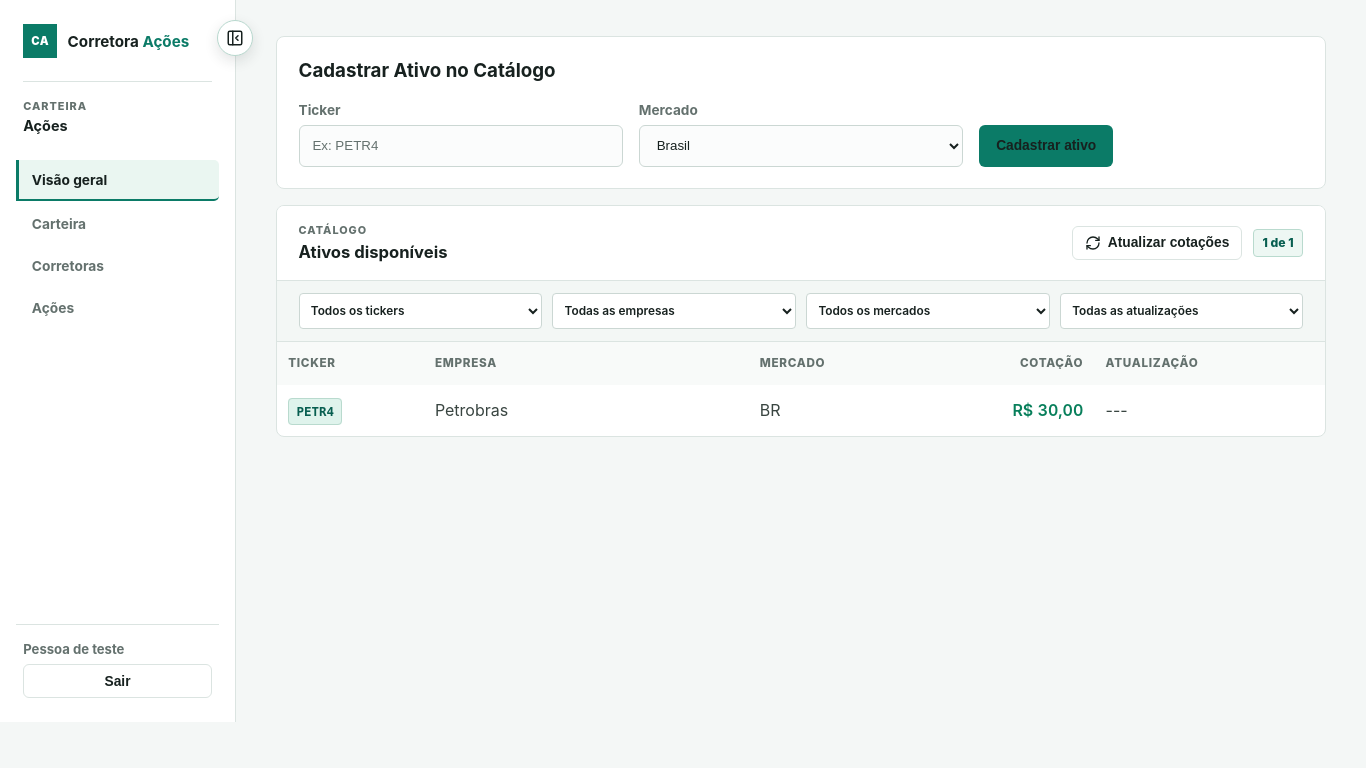
Test: catalogo de acoes › exibe o catalogo e permite filtrar o mercado
Check: the cell "Petrobras" is shown, box x1=424 y1=385 x2=749 y2=435
Select "EUA" in the dropdown named "Filtrar mercado": (928, 310) x1=806 y1=292 x2=1050 y2=328
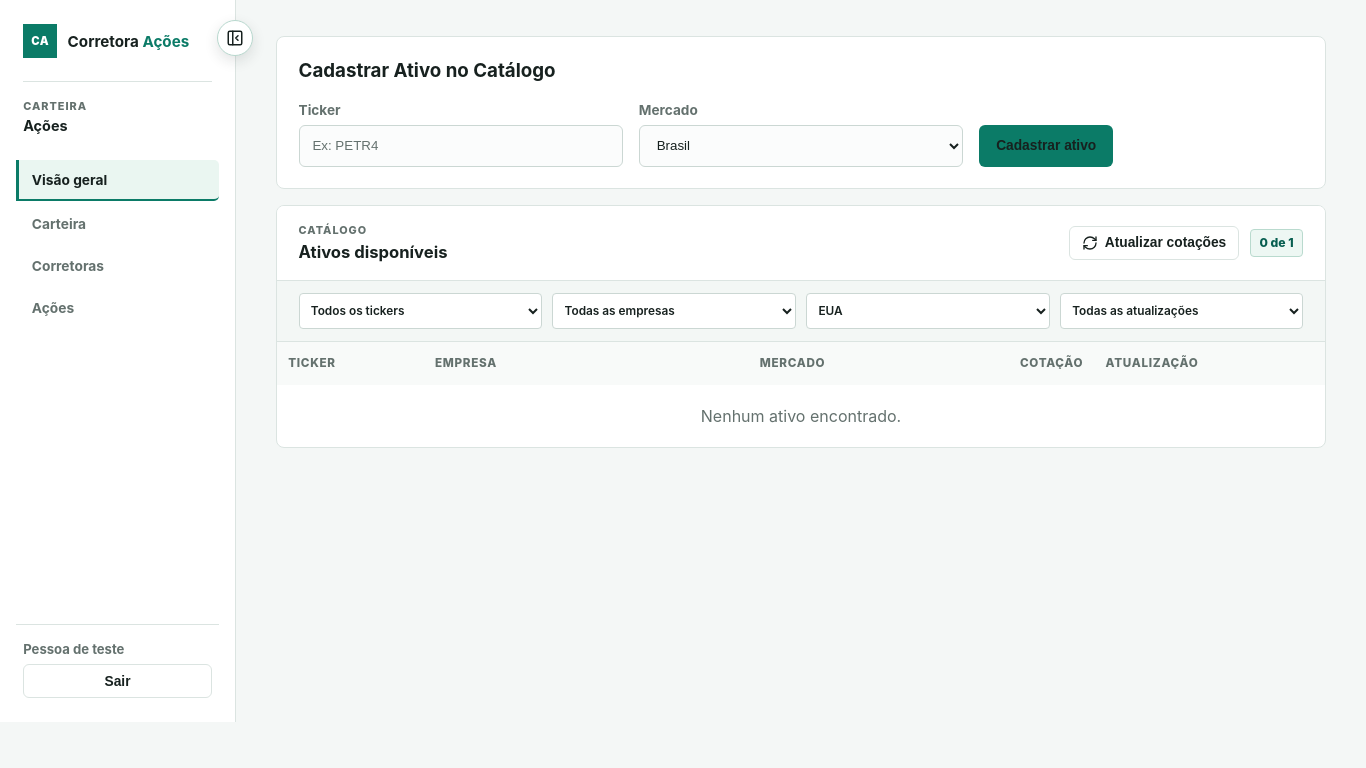
Check: the text "Nenhum ativo encontrado." is shown, box x1=277 y1=385 x2=1325 y2=446
